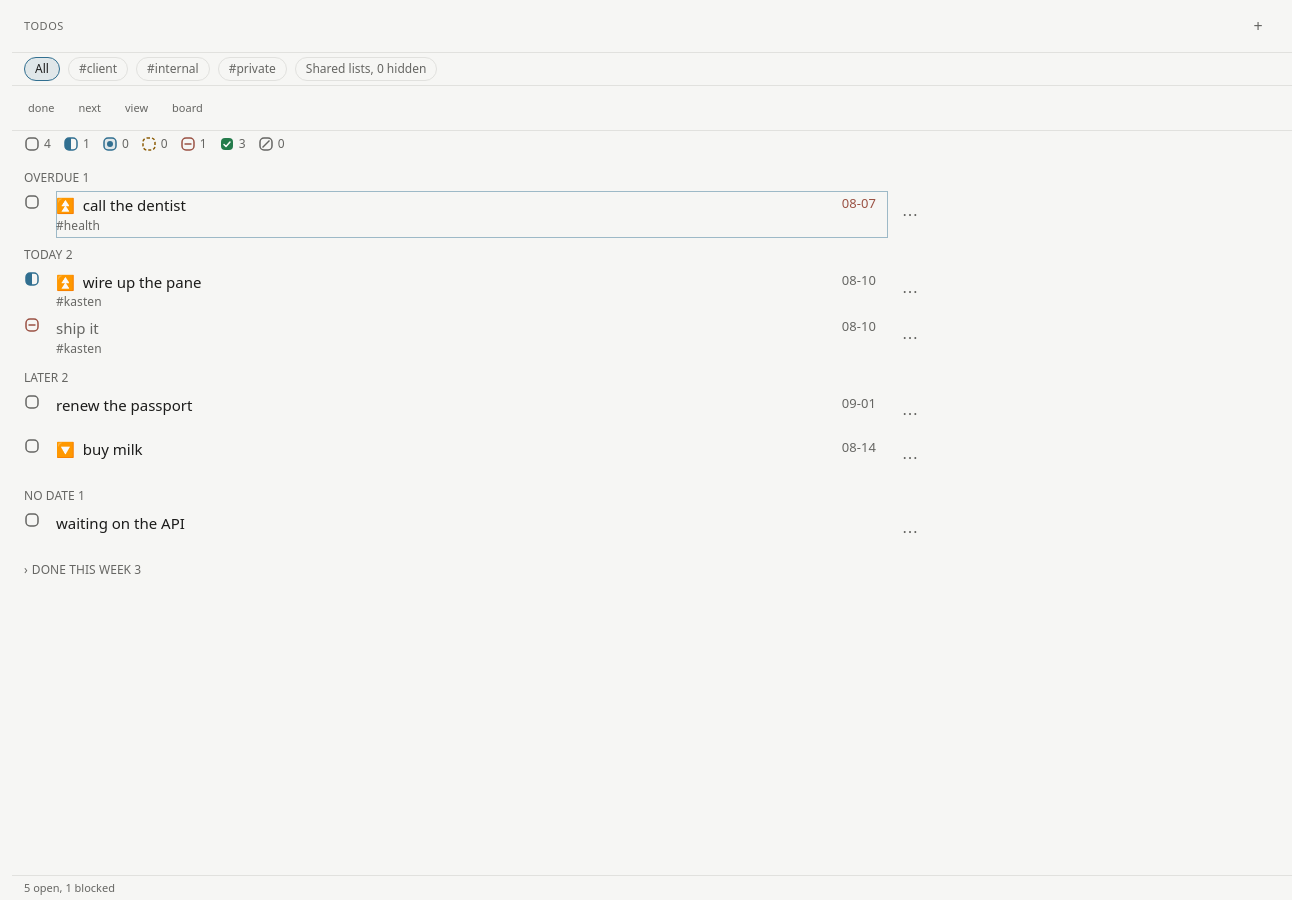
Test case: the todo pane by touch › writes the views note from the button in a vault with none
The width and height of the screenshot is (1292, 900).
Expected: the button "🔽 buy milk 08-14" is shown, x1=56 y1=434 x2=888 y2=478
Click the button "view". click: coordinates (137, 108)
box: x1=113 y1=86 x2=160 y2=130
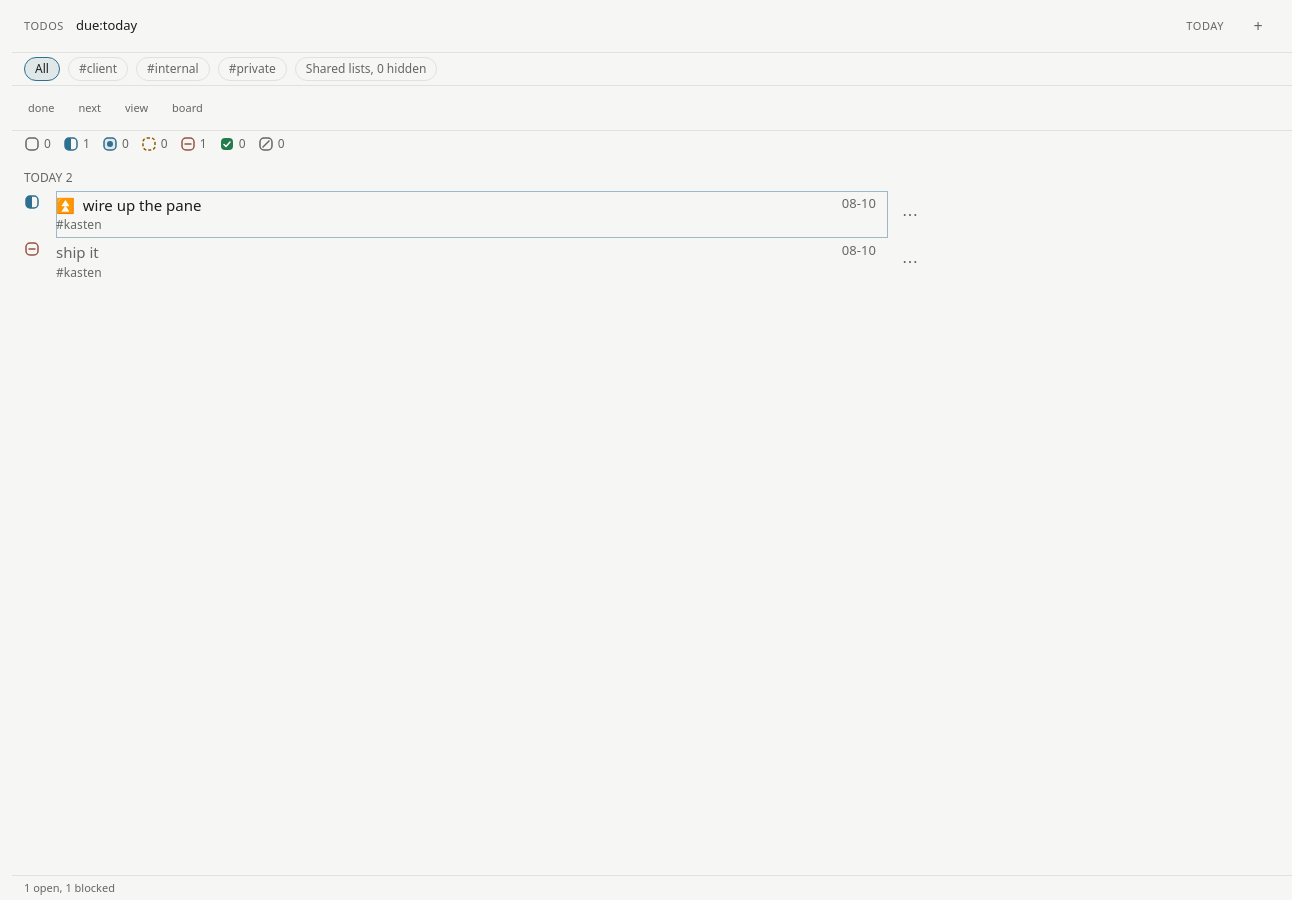
Now the text with test id "todo-view" reads "today", box x1=1186 y1=18 x2=1224 y2=33
